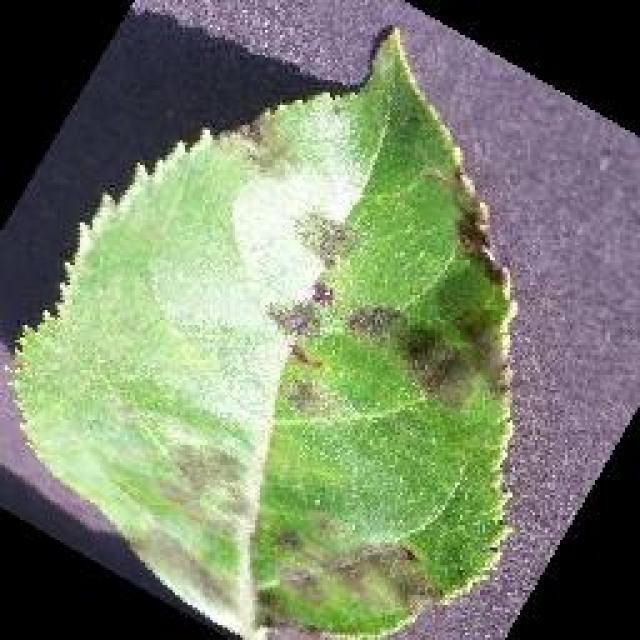apple scab disease: (5, 22, 520, 638)
